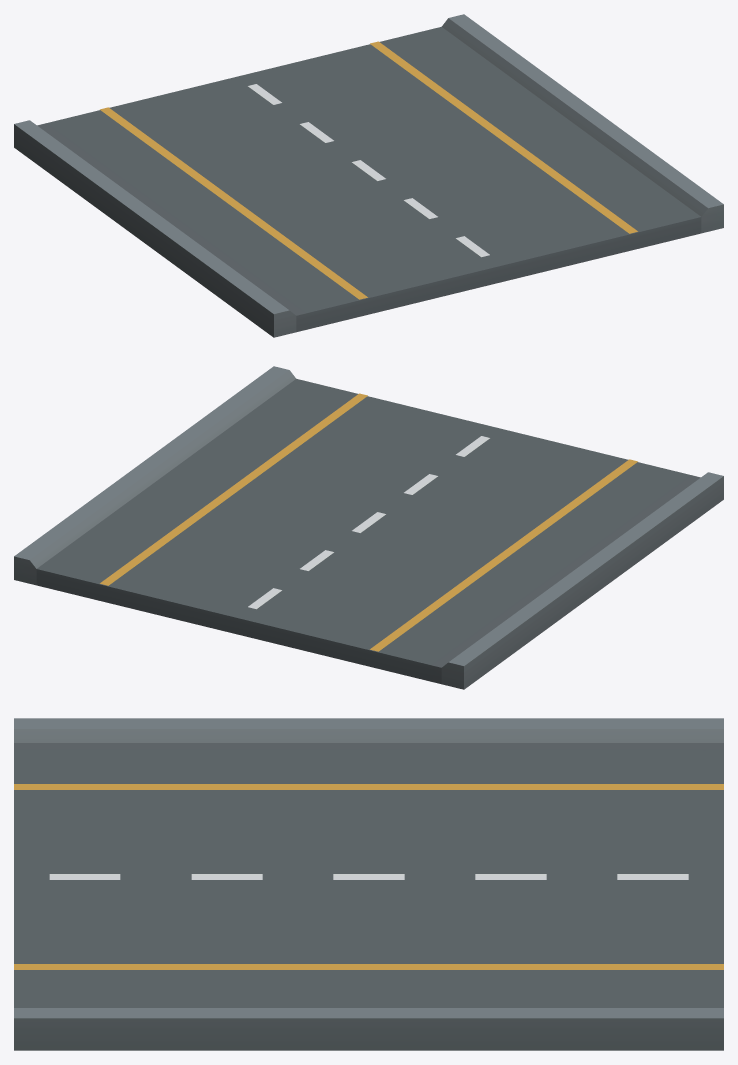
The model's file is road-straight.glb.
3 renders of one model, top to bottom at view 1: azimuth 30°, elevation 25°; view 2: azimuth 150°, elevation 25°; view 3: azimuth 270°, elevation 25°, orthographic. The views are drawn at different scales.
Visible parts, largest first — view 1: road_straight; view 2: road_straight; view 3: road_straight.
Part boxes in pixels (box(x1,y1,x2,y2)): road_straight: box(14, 14, 723, 337); road_straight: box(14, 366, 723, 689); road_straight: box(14, 718, 723, 1050).
Bounding box in the file's own units: 2 × 0.1 × 2.
Materials: 1 (1 with a texture image).
